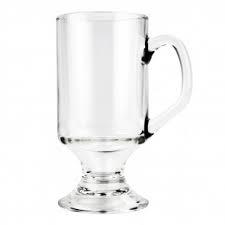glass: (39, 2, 197, 224)
